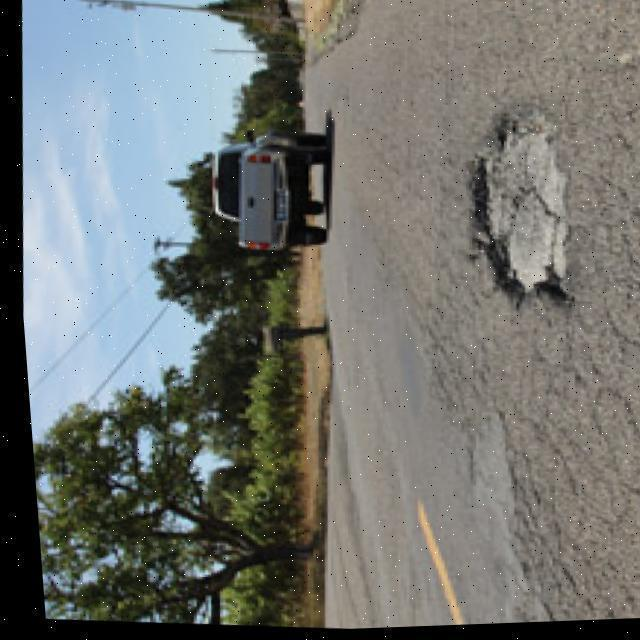Pothole: (474, 111, 568, 300)
